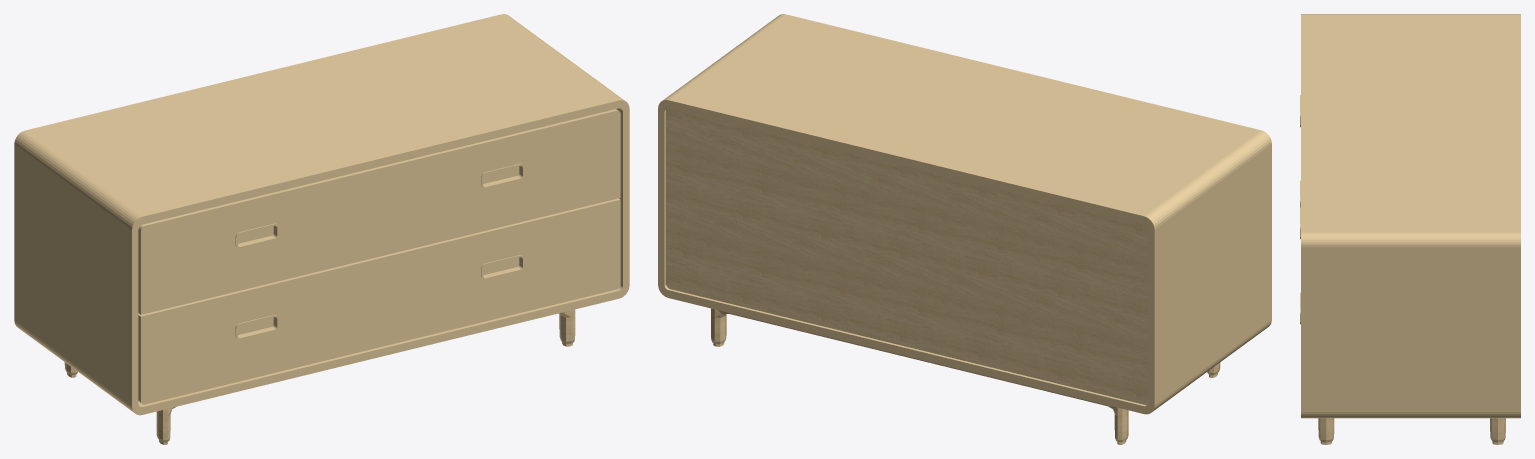
The model's file is ArmarioBajo2.fbx.
3 views of the same model, side by side, from view 1: azimuth 30°, elevation 25°; view 2: azimuth 150°, elevation 25°; view 3: azimuth 270°, elevation 25° (orthographic). The views are drawn at different scales.
Parts seen in each view (by area): view 1: Hoek_04_1_1; view 2: Hoek_04_1_1; view 3: Hoek_04_1_1.
Boxes of the visible parts, box(x1,y1,x2,y2) form: Hoek_04_1_1: box(14, 14, 629, 444); Hoek_04_1_1: box(658, 14, 1271, 444); Hoek_04_1_1: box(1300, 14, 1520, 444).
Bounding box in the file's own units: 75.76 × 35.56 × 31.17.
